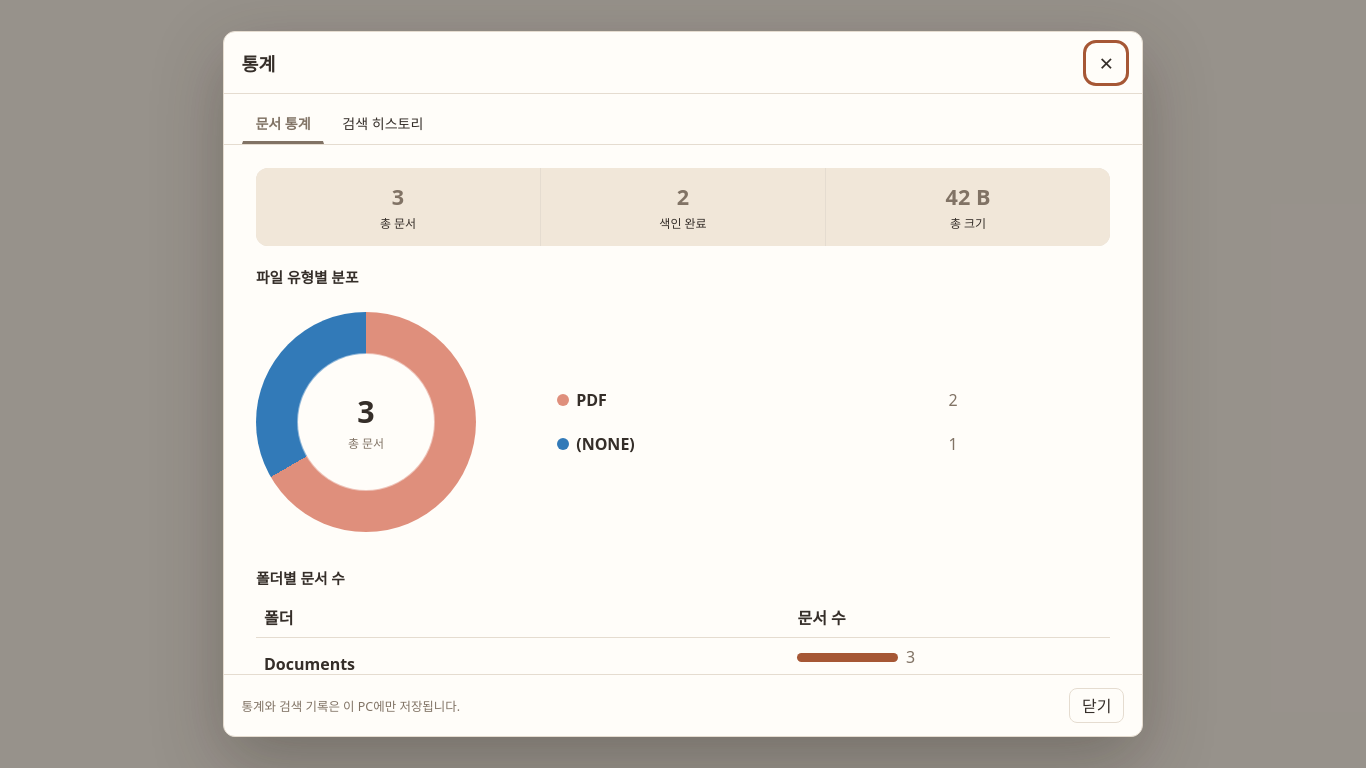
StatisticsDialog › shows the private-search policy and excludes stale folder buckets
Expected: the button "Documents" is shown, [264,646,355,674]
Click the tab "검색 히스토리". click: click(383, 124)
box: [328,105,437,144]
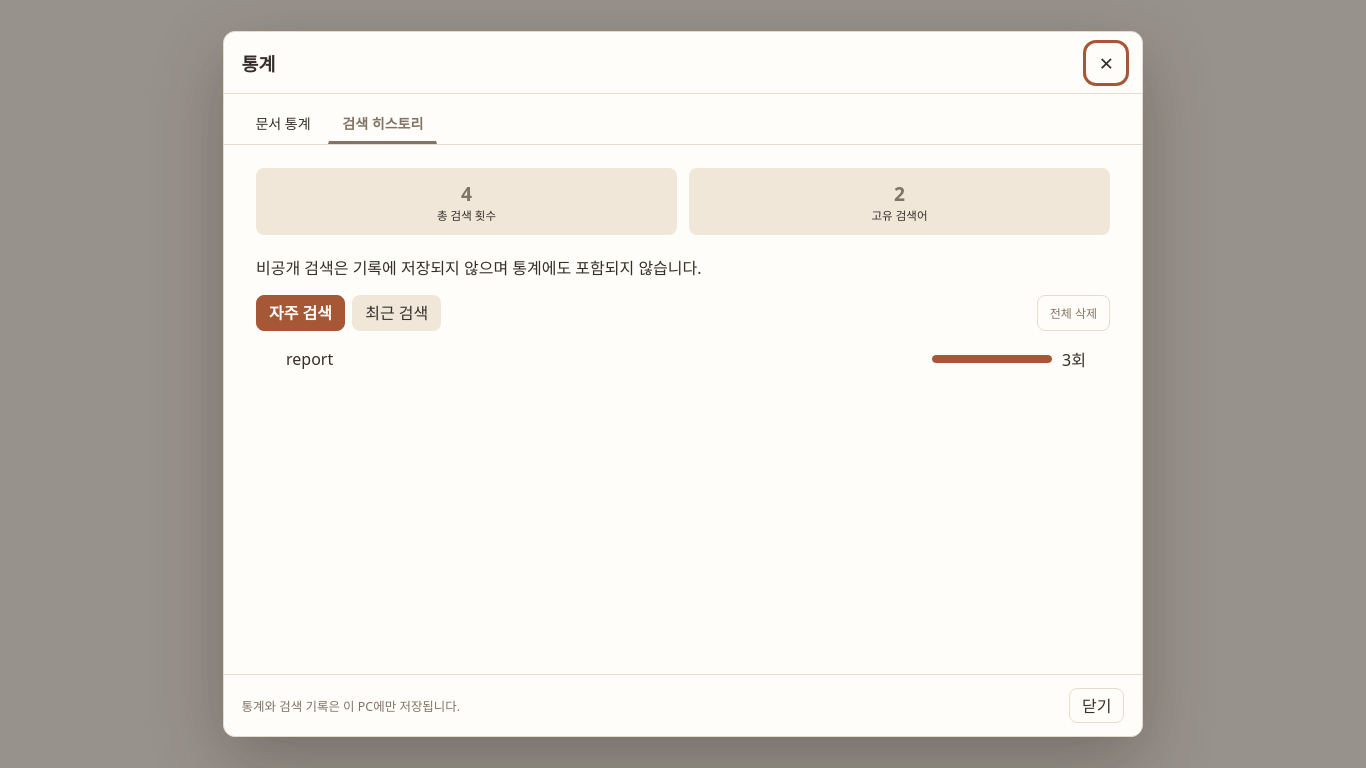
Result: the text "비공개 검색은 기록에 저장되지 않으며 통계에도 포함되지 않습니다." is shown at [256,257,702,279]
